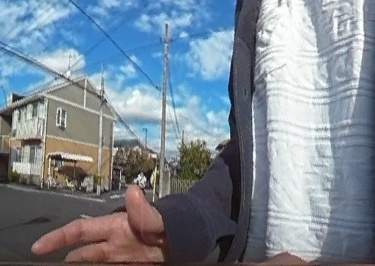person: (134, 169, 146, 188)
